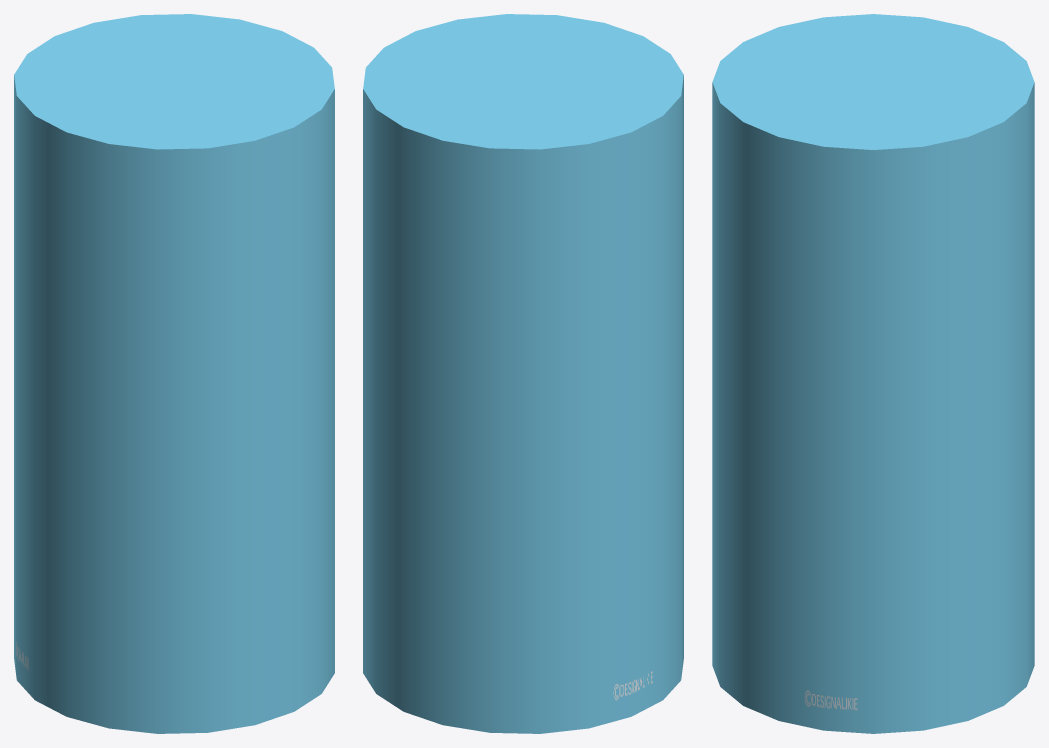
The picture shows the model from 3 angles, left to right: view 1: azimuth 30°, elevation 25°; view 2: azimuth 150°, elevation 25°; view 3: azimuth 270°, elevation 25°; orthographic projection.
Visible parts, largest first — view 1: Log; view 2: Log; view 3: Log.
Boxes of the visible parts, x1,y1,x2,y2 form: Log: (14, 14, 334, 733); Log: (363, 14, 683, 733); Log: (712, 14, 1034, 733).
Size of the model in its own units: 1 by 2 by 1.
Materials: 1 (1 with a texture image).
